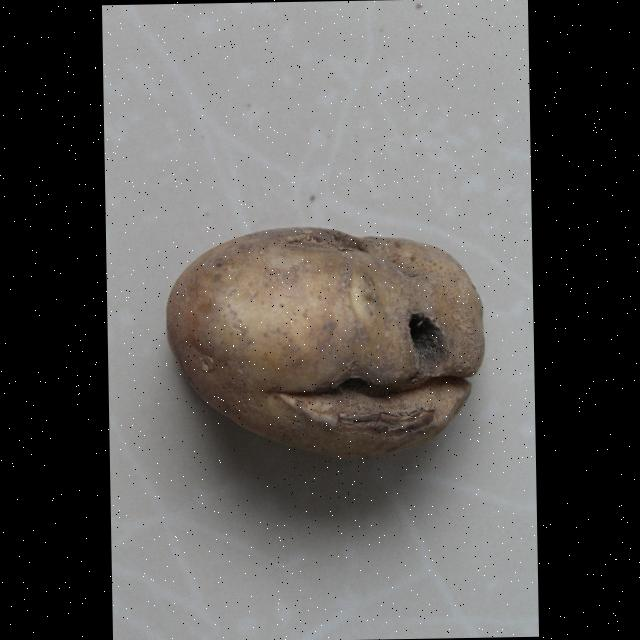Damaged potato: (160, 218, 490, 464)
